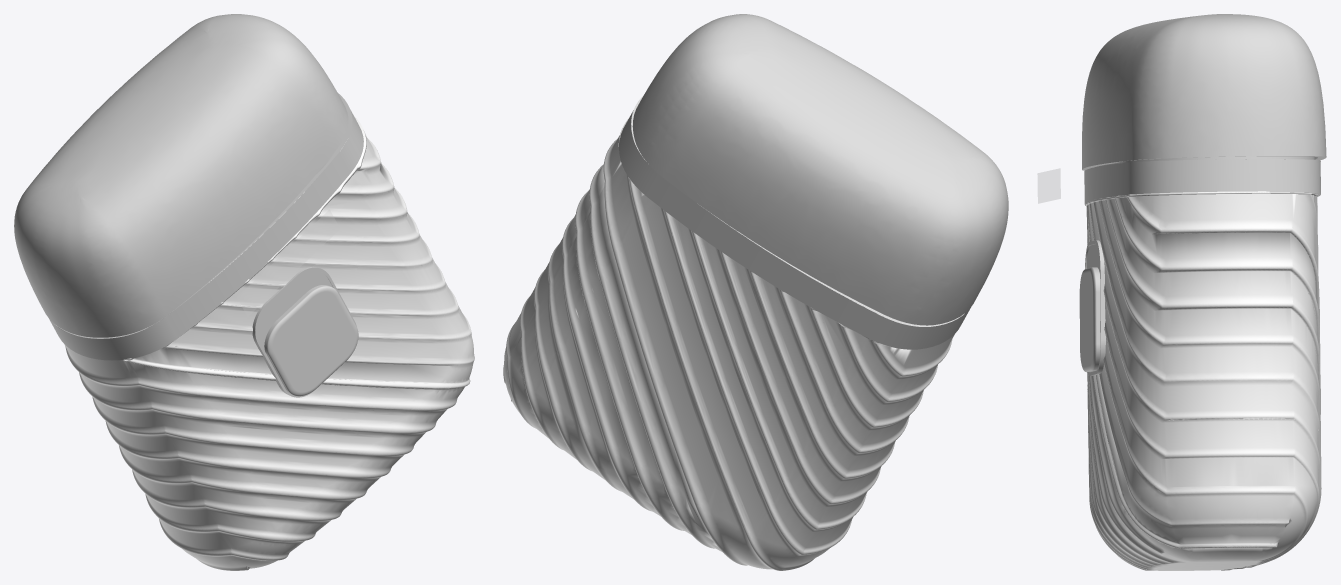
The picture shows the model from 3 angles, left to right: view 1: azimuth 30°, elevation 25°; view 2: azimuth 150°, elevation 25°; view 3: azimuth 270°, elevation 25°; orthographic projection. The views are drawn at different scales.
Parts seen in each view (by area): view 1: 主體22222, 上蓋, 中間層.002, 立方體.001, logo(白), 立方體; view 2: 主體22222, 上蓋, 中間層.002; view 3: 主體22222, 上蓋, 中間層.002, 立方體.001, 立方體, logo(白), 立方體.003.
Boxes of the visible parts, left/top/right/bottom form: 主體22222: left=58, top=116, right=474, bottom=570; 上蓋: left=14, top=14, right=348, bottom=337; 中間層.002: left=49, top=93, right=363, bottom=360; 立方體.001: left=264, top=285, right=358, bottom=396; logo(白): left=237, top=210, right=339, bottom=315; 立方體: left=252, top=266, right=356, bottom=397; 主體22222: left=503, top=118, right=961, bottom=570; 上蓋: left=632, top=14, right=1008, bottom=325; 中間層.002: left=619, top=96, right=970, bottom=349; 主體22222: left=1085, top=191, right=1321, bottom=570; 上蓋: left=1082, top=14, right=1326, bottom=170; 中間層.002: left=1084, top=159, right=1320, bottom=205; 立方體.001: left=1079, top=267, right=1100, bottom=372; 立方體: left=1085, top=240, right=1105, bottom=375; logo(白): left=1037, top=168, right=1060, bottom=203; 立方體.003: left=1096, top=156, right=1314, bottom=166.
Bounding box in the file's own units: 6.2 × 6.85 × 3.18.
3 materials, 1 textured.
